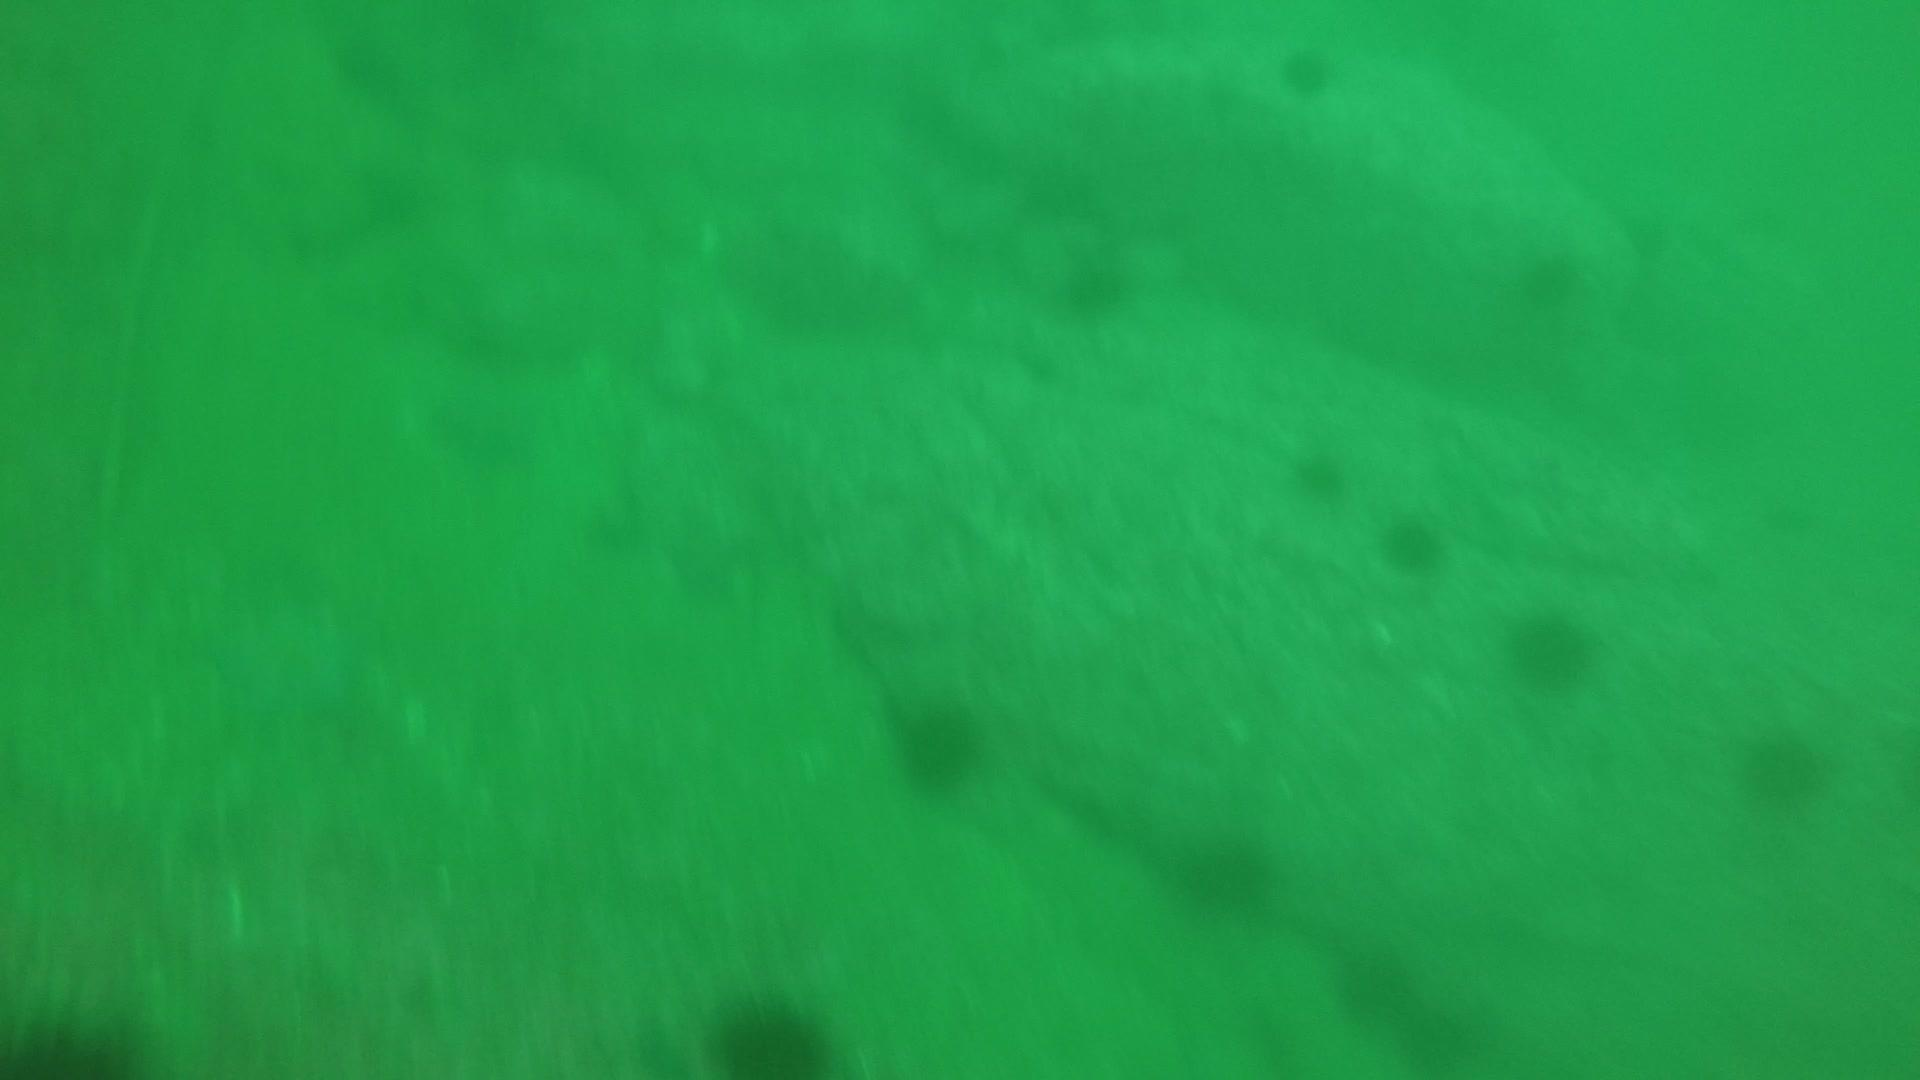echinus: (704, 990, 841, 1075), (886, 688, 989, 796), (1167, 823, 1280, 919), (3, 1005, 150, 1079), (1733, 719, 1834, 814), (1501, 600, 1601, 692), (1052, 244, 1137, 322), (1510, 240, 1589, 313), (1375, 506, 1451, 578), (1273, 40, 1341, 102), (1284, 440, 1352, 502)
starfish: (203, 589, 373, 729)
